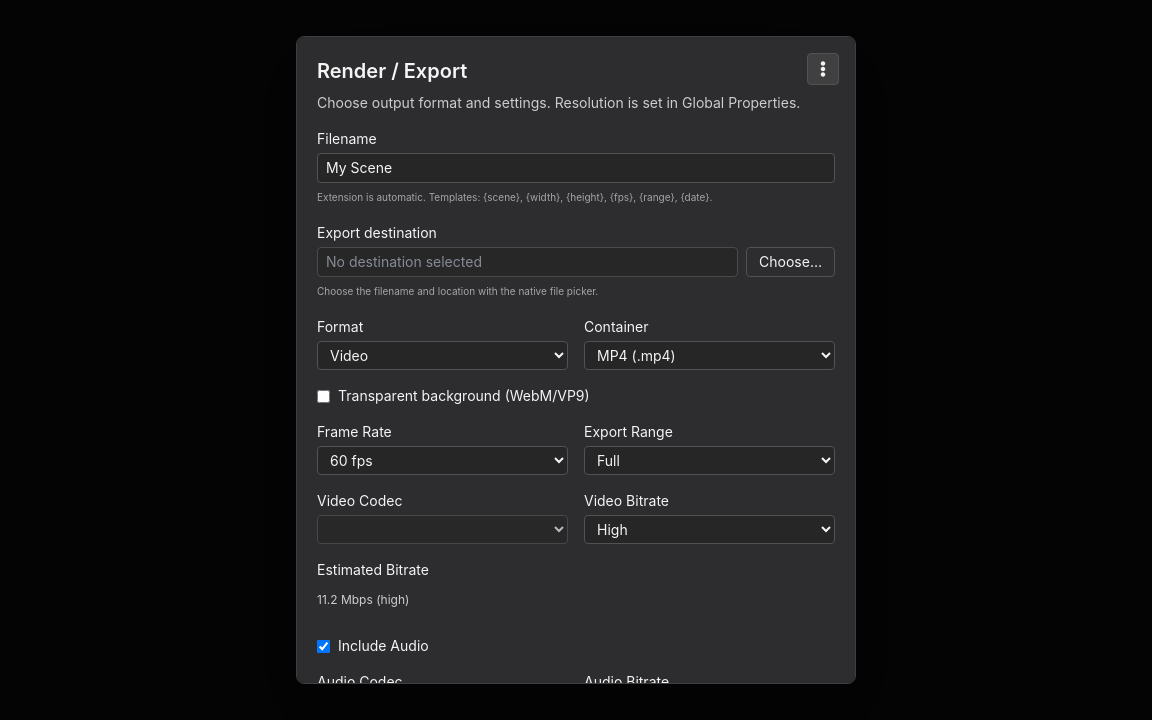
Test: RenderModal export options behaviour › updates the selected destination extension when the container changes
This screenshot has width=1152, height=720.
Click the button "Choose…". click: x=790, y=262
box: 746,247 -> 835,277
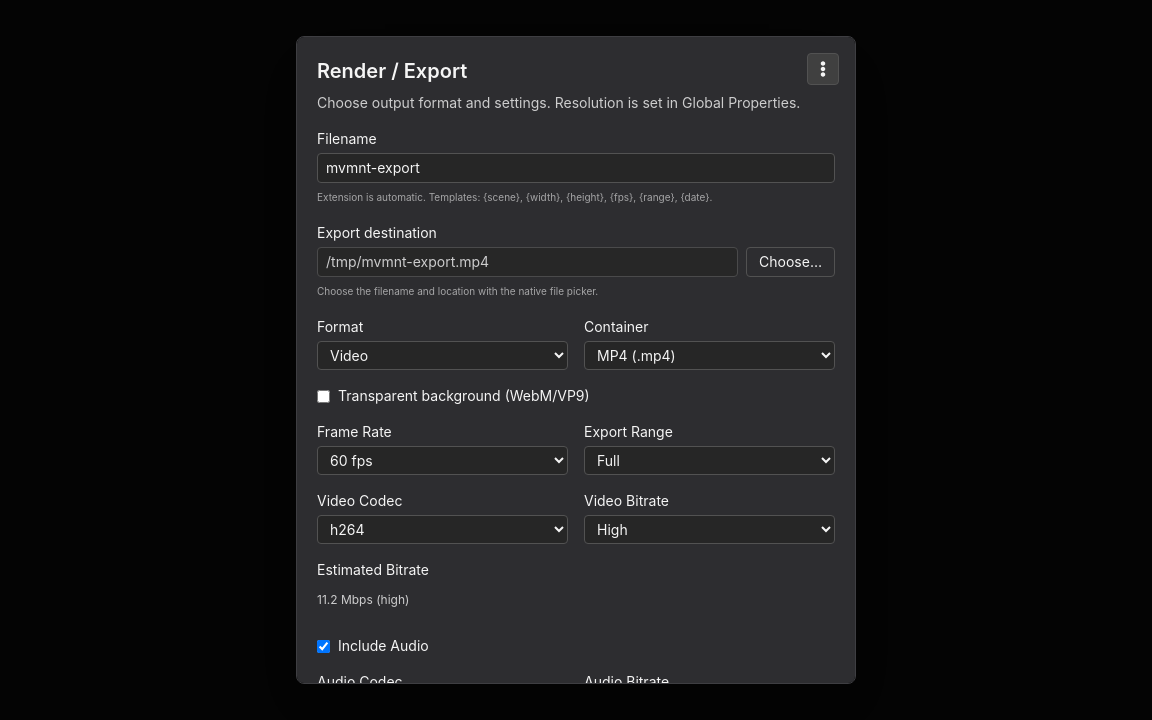
Expected: the field with placeholder "No destination selected" holds "/tmp/mvmnt-export.mp4", 317,247 -> 738,277
Select "WebM (.webm)" in the dropdown labelled "Container". click: x=710, y=356
box: 584,341 -> 835,370
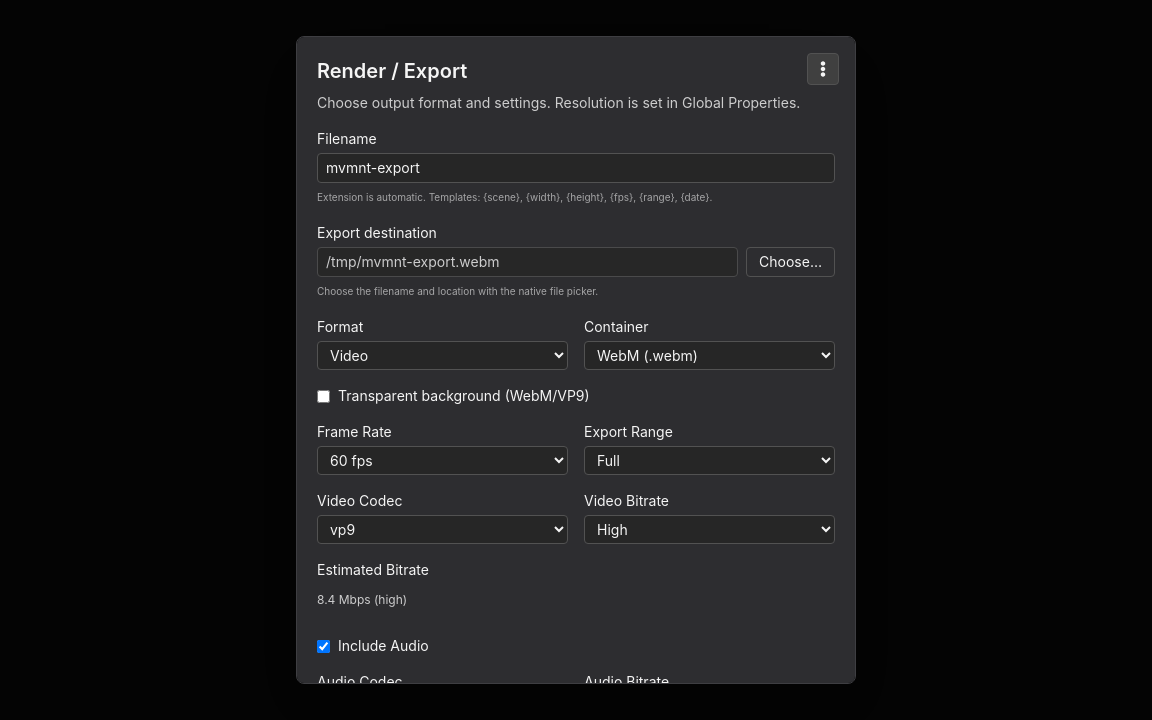
Expected: the field with placeholder "No destination selected" holds "/tmp/mvmnt-export.webm", 317,247 -> 738,277
